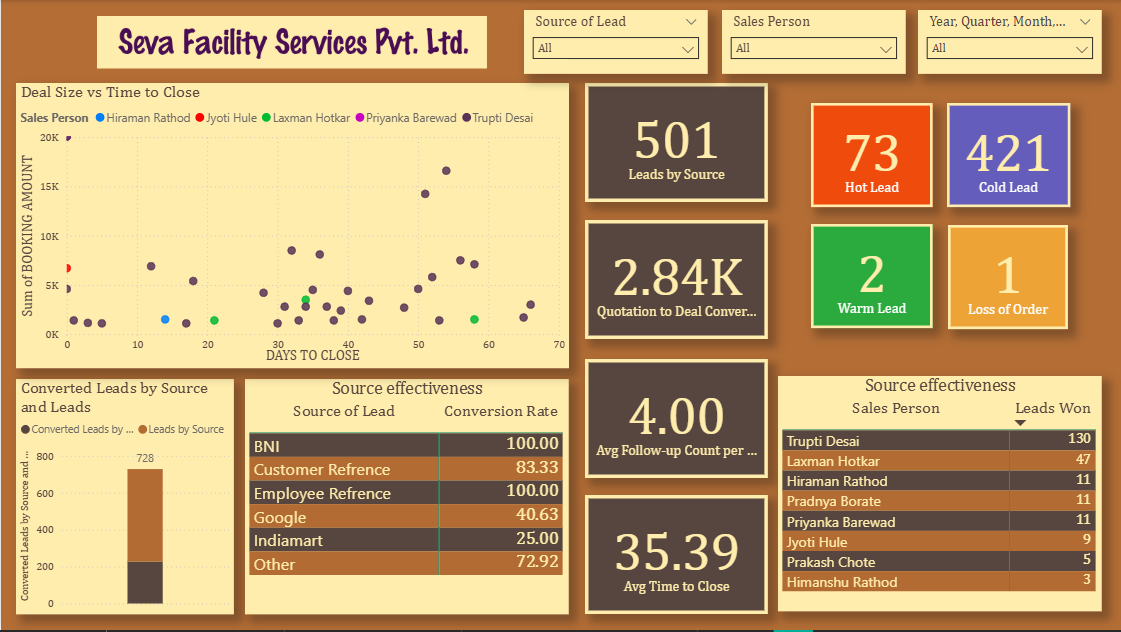

This screenshot's page, from the dashboard's own definition file:
{"tool":"powerbi","page":{"name":"Tactical Level - Managers","canvas":[1280,720],"ordinal":1},"visuals":[{"type":"shape","box":[109.9,18.5,445.7,60.5],"z":0},{"type":"card","fields":{"Values":["New.Leads by Source"]},"box":[667,95.1,209.5,136.2],"z":1000},{"type":"columnChart","title":"Converted Leads by Source and Leads","fields":{"Y":["New.Converted Leads by Source","New.Leads by Source"]},"box":[16.7,433.1,249.3,268.6],"z":2000},{"type":"pivotTable","title":"Source effectiveness ","fields":{"Rows":["New.SOURCE OF LEAD"],"Values":["New.ConversionRate"]},"box":[278.9,433.1,370.1,268.6],"z":3000},{"type":"card","fields":{"Values":["New.Avg Follow-up Count per Lead"]},"box":[667,410,209.5,136.2],"z":4000},{"type":"card","fields":{"Values":["New.Quotation to Deal Conversion Rate"]},"box":[667,251.9,209.5,136.2],"z":5000},{"type":"card","fields":{"Values":["New.Avg Time to Close"]},"box":[667,565.5,209.5,136.2],"z":6000},{"type":"scatterChart","title":"Deal Size  vs Time to Close","fields":{"X":["New.Days to Close"],"Y":["Sum(New.BOOKING AMOUNT)"],"Series":["New.Sales Person"]},"box":[16.7,95.1,632.3,326.4],"z":7000},{"type":"slicer","fields":{"Values":["New.SOURCE OF LEAD"]},"box":[597.5,11.1,209.9,72.8],"z":8000},{"type":"slicer","fields":{"Values":["New.Sales Person"]},"box":[823.5,11.1,209.9,72.8],"z":9000},{"type":"image","box":[118.5,25.9,429.6,45.7],"z":10000},{"type":"slicer","fields":{"Values":["New.ENQUIRY DATE.Variation.Date Hierarchy.Year","New.ENQUIRY DATE.Variation.Date Hierarchy.Quarter","New.ENQUIRY DATE.Variation.Date Hierarchy.Month","New.ENQUIRY DATE.Variation.Date Hierarchy.Day"]},"box":[1048.1,11.1,209.9,72.8],"z":11000},{"type":"card","fields":{"Values":["New.LeadsByStatus"]},"box":[925.7,117.7,139.4,118.9],"z":12000},{"type":"card","fields":{"Values":["New.Cold Lead"]},"box":[1081.1,117.7,140.6,118.9],"z":13000},{"type":"card","fields":{"Values":["New.Warm Lead"]},"box":[925.7,256,139.4,118.9],"z":14000},{"type":"card","fields":{"Values":["New.Loss of Order"]},"box":[1082.3,257.1,137.1,118.9],"z":15000},{"type":"pivotTable","title":"Source effectiveness ","fields":{"Rows":["New.Sales Person"],"Values":["New.Leads Won"]},"box":[888,430.1,369.9,268.7],"z":15001}]}

Visuals, with their boxes in screenshot pixels (x1, y1, x2, y2), scaled from the page's 1280x720 canvas onto the 1121x632 screenshot:
shape: [left=96, top=16, right=487, bottom=69]
card - New.Leads by Source: [left=584, top=83, right=768, bottom=203]
"Converted Leads by Source and Leads" columnChart: [left=15, top=380, right=233, bottom=616]
"Source effectiveness " pivotTable: [left=244, top=380, right=568, bottom=616]
card - New.Avg Follow-up Count per Lead: [left=584, top=360, right=768, bottom=479]
card - New.Quotation to Deal Conversion Rate: [left=584, top=221, right=768, bottom=341]
card - New.Avg Time to Close: [left=584, top=496, right=768, bottom=616]
"Deal Size  vs Time to Close" scatterChart: [left=15, top=83, right=568, bottom=370]
slicer - New.SOURCE OF LEAD: [left=523, top=10, right=707, bottom=74]
slicer - New.Sales Person: [left=721, top=10, right=905, bottom=74]
image: [left=104, top=23, right=480, bottom=63]
slicer - New.ENQUIRY DATE.Variation.Date Hierarchy.Year x New.ENQUIRY DATE.Variation.Date Hierarchy.Quarter: [left=918, top=10, right=1102, bottom=74]
card - New.LeadsByStatus: [left=811, top=103, right=933, bottom=208]
card - New.Cold Lead: [left=947, top=103, right=1070, bottom=208]
card - New.Warm Lead: [left=811, top=225, right=933, bottom=329]
card - New.Loss of Order: [left=948, top=226, right=1068, bottom=330]
"Source effectiveness " pivotTable: [left=778, top=378, right=1102, bottom=613]
